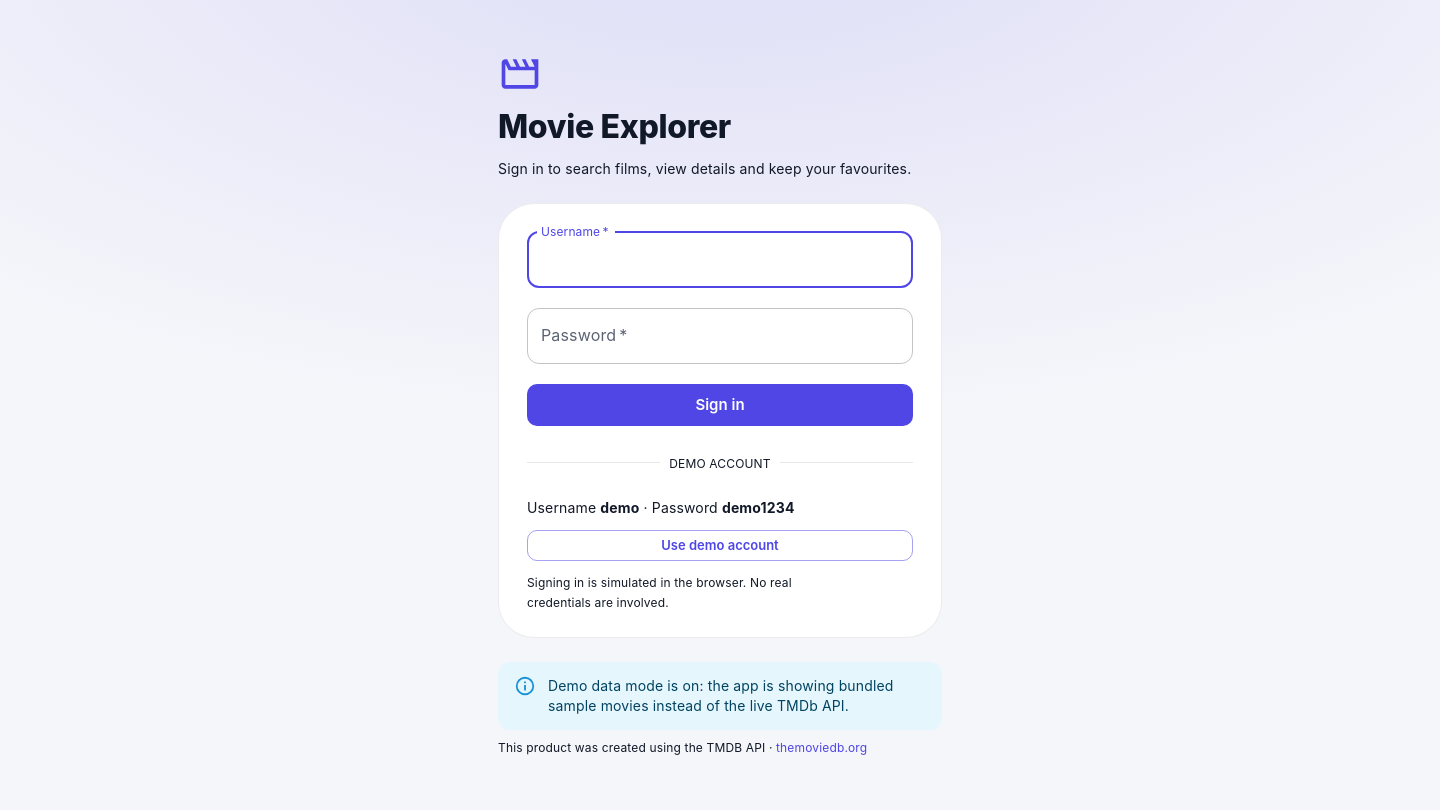
Scenario: Movie Explorer — end to end › rejects an incorrect password without signing the user in
Click the button "Use demo account": click(720, 546) [527,530,913,561]
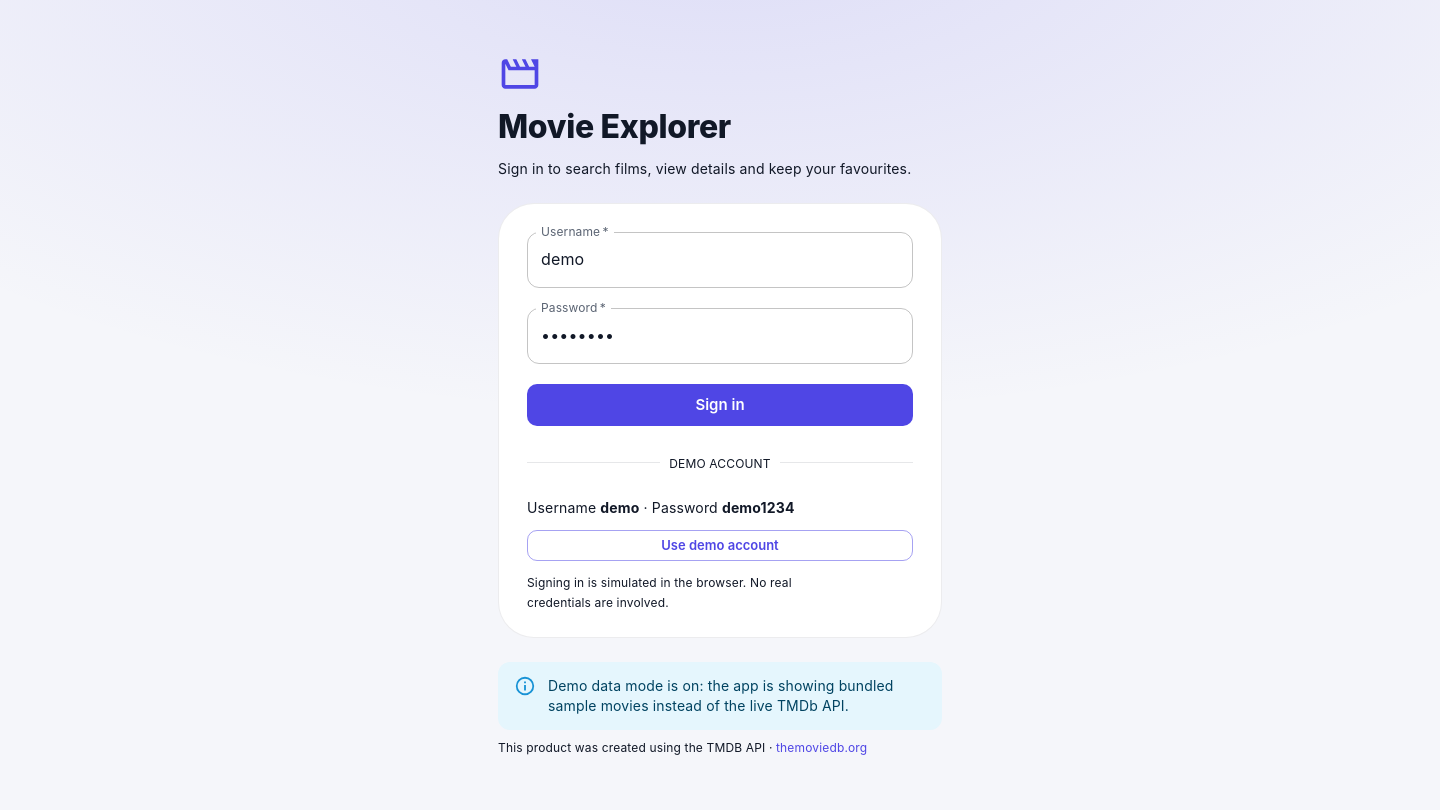
In the password field labelled "Password *": (720, 336) [527,308,913,364], type "wrong-password"
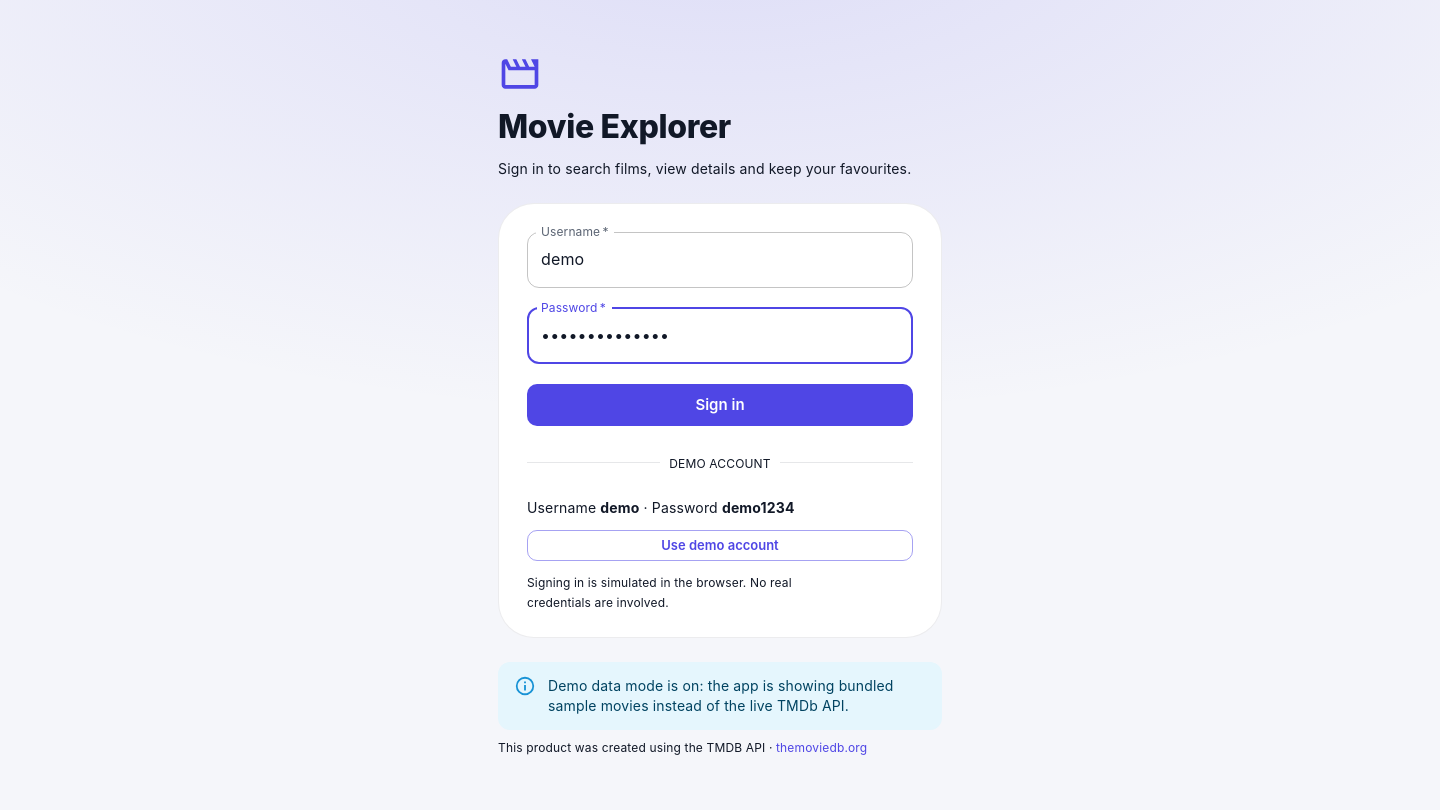
Click the button "Sign in": click(720, 405) [527,384,913,426]
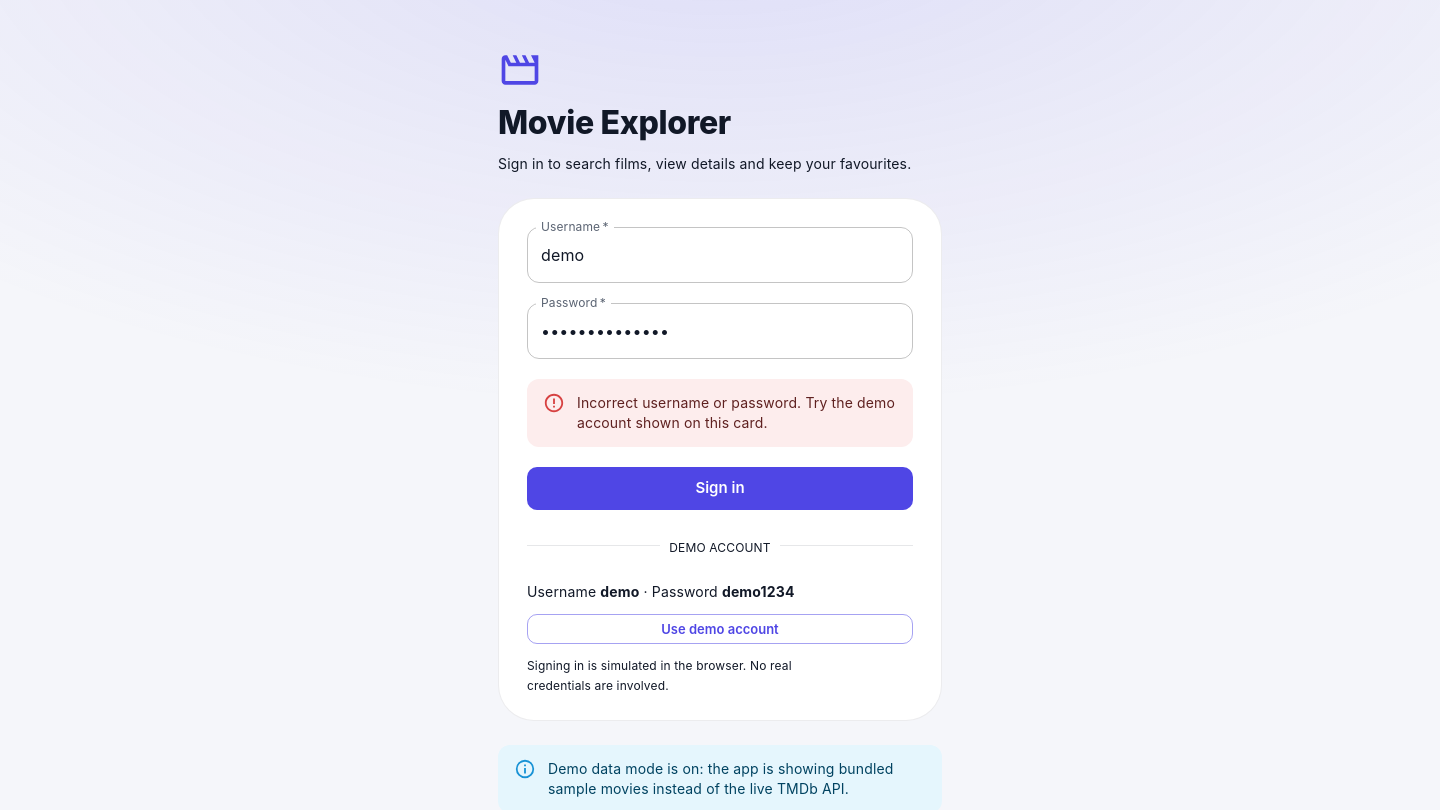
Check: the message "Incorrect username or password. Try the demo account shown on this card." is shown, box [527,379,913,447]
